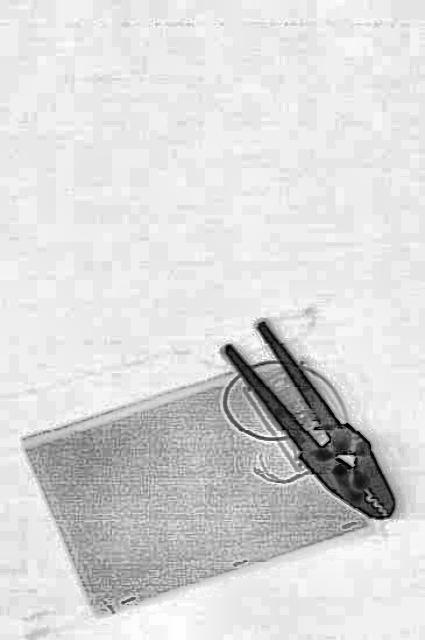Pliers: (219, 298, 407, 546)
